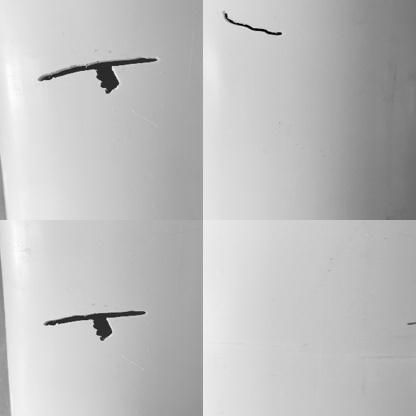fengxi: (37, 56, 166, 76), (220, 9, 282, 40), (40, 310, 151, 323)
kongdong: (89, 66, 124, 94), (88, 318, 115, 343)
